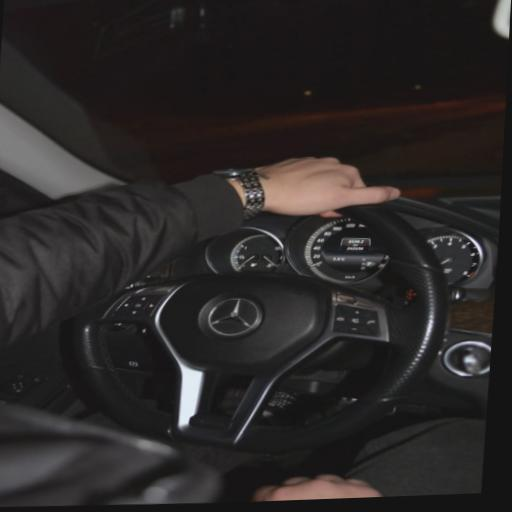Hands-on-the-Wheel: (168, 126, 426, 240)
